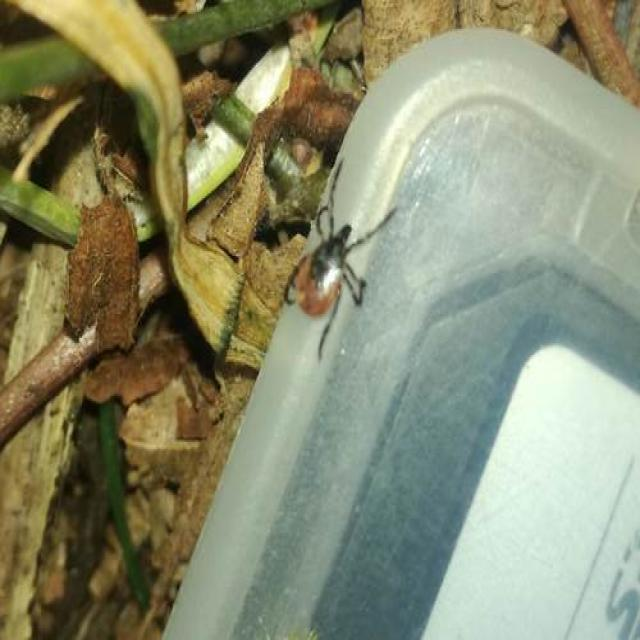Ixodes Ricinus-F: (297, 164, 397, 360)
